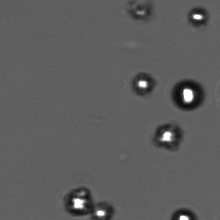Dead Cell: (129, 2, 151, 18)
Living Cell: (171, 78, 205, 110), (63, 187, 93, 215), (152, 124, 183, 150), (132, 71, 154, 95), (188, 6, 208, 26), (91, 199, 110, 218)
